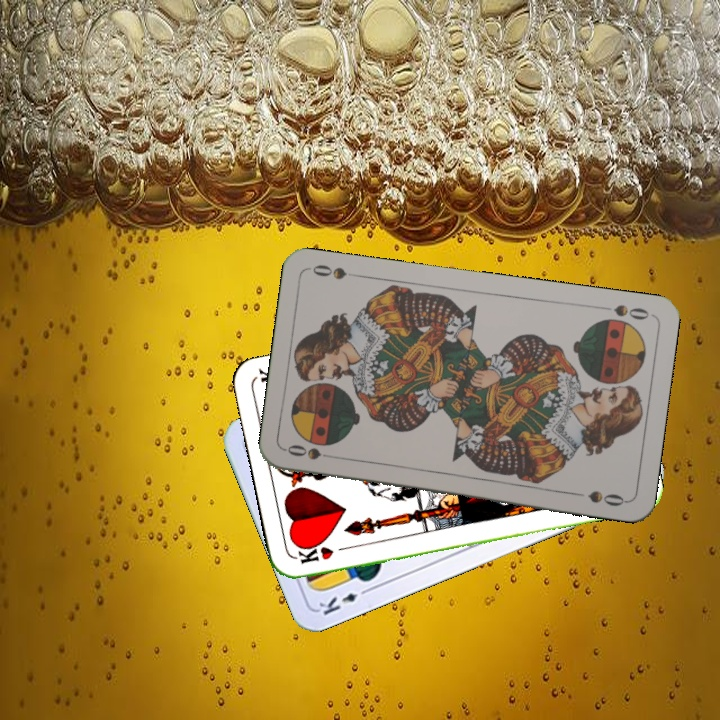EK: (314, 583, 373, 618)
HK: (294, 542, 353, 567)
SO: (595, 300, 652, 323), (283, 441, 342, 462)
